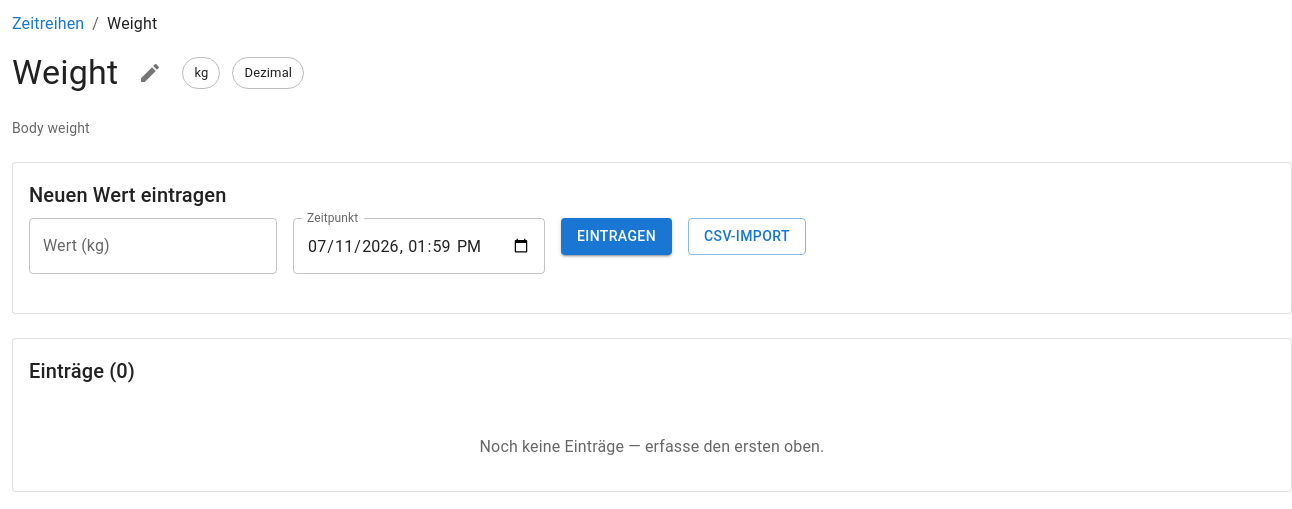
Scenario: TimeSeriesDetailPage › rejects non-numeric input
The width and height of the screenshot is (1292, 509).
expect the heading "Weight" is shown: met, box [12,52,118,94]
In the field labelled "Wert": (153, 246) [29,218,277,274], type "foo"
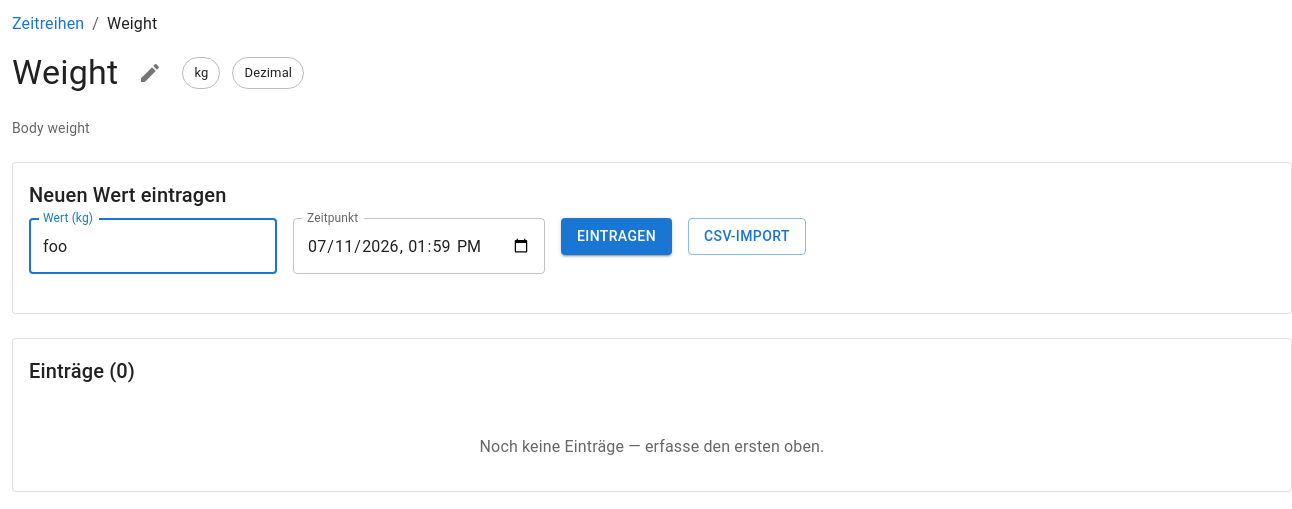
Click the button "Eintragen": (616, 236) [561,218,672,254]
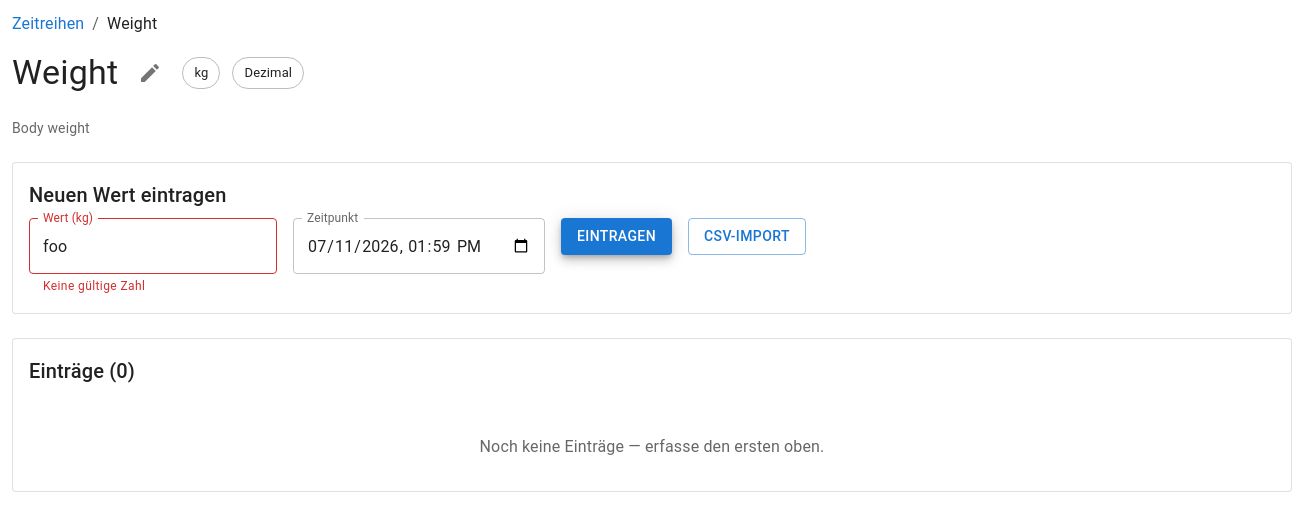
expect the text "Keine gültige Zahl" is shown: met, box [43,279,145,293]
